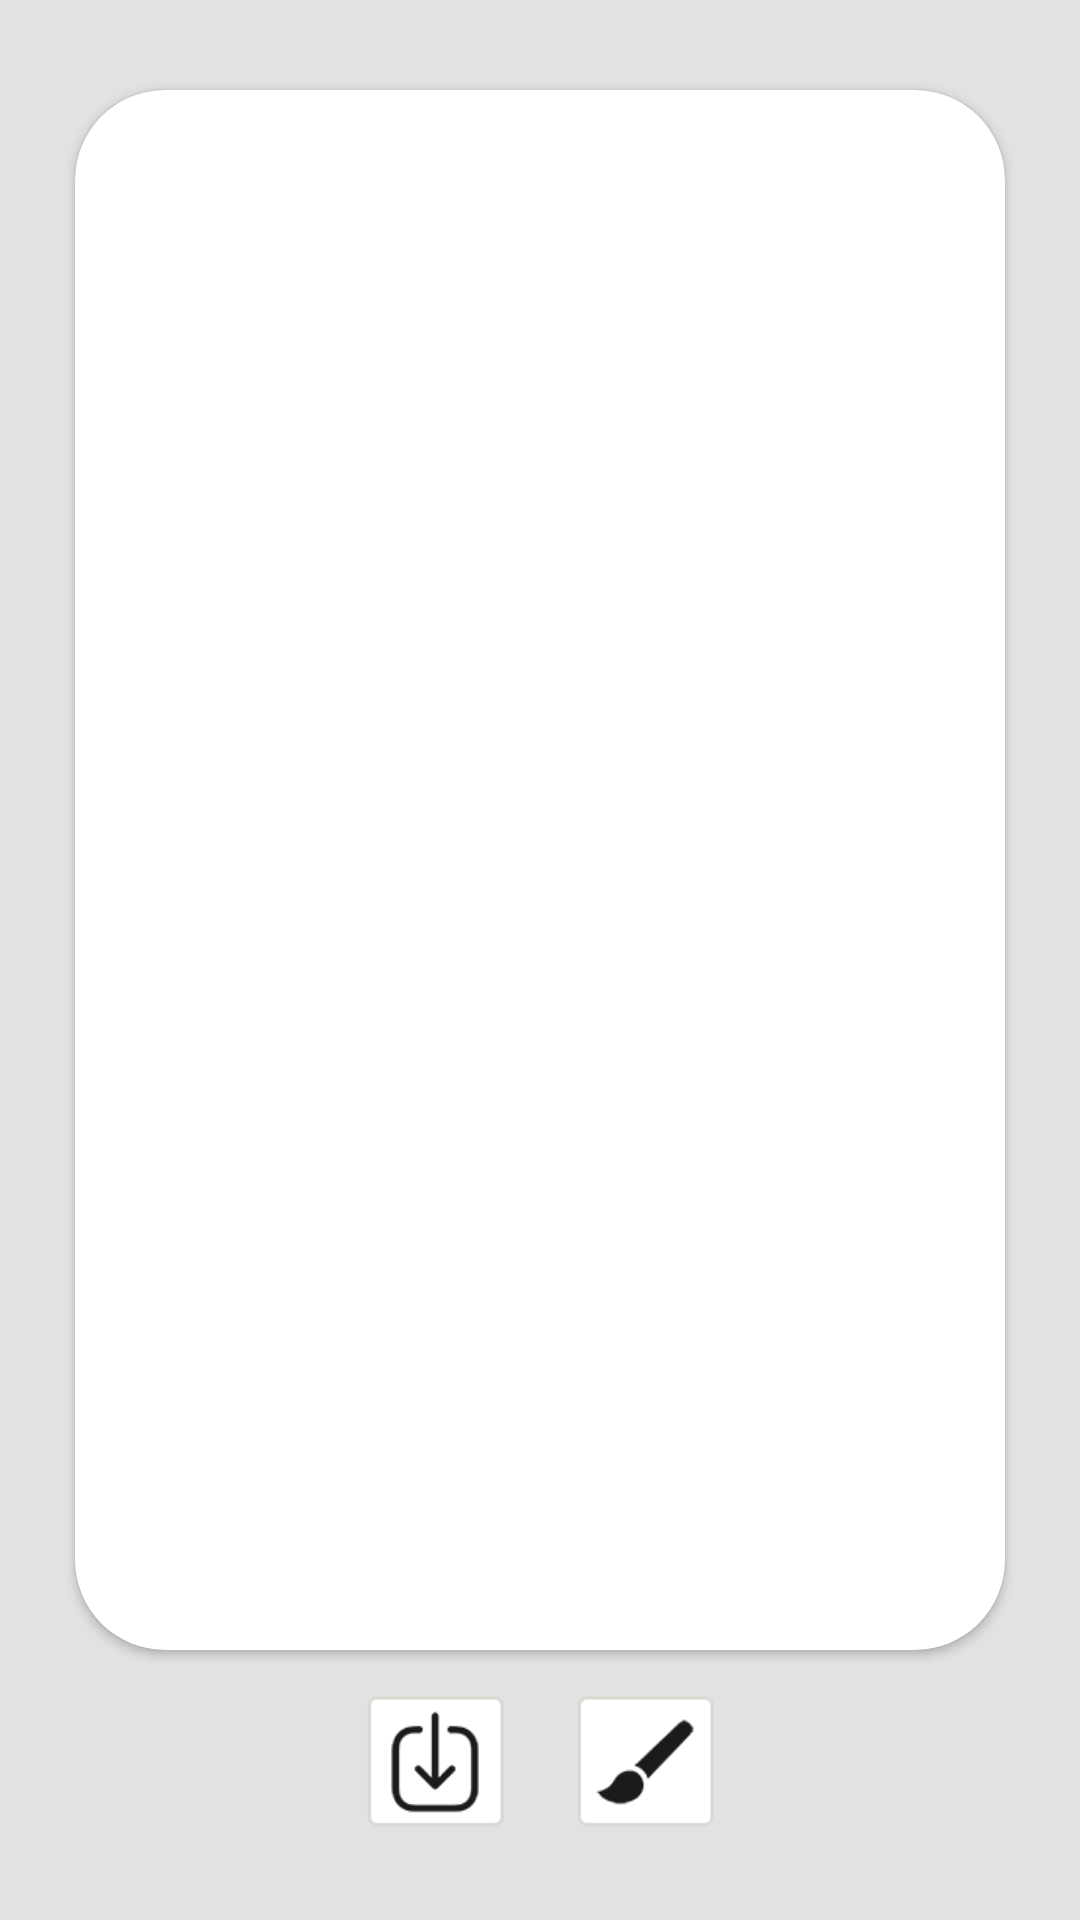

Icon click points for this 1080x1920 phone screenshot, format point (x, y):
download: point (436, 1761)
